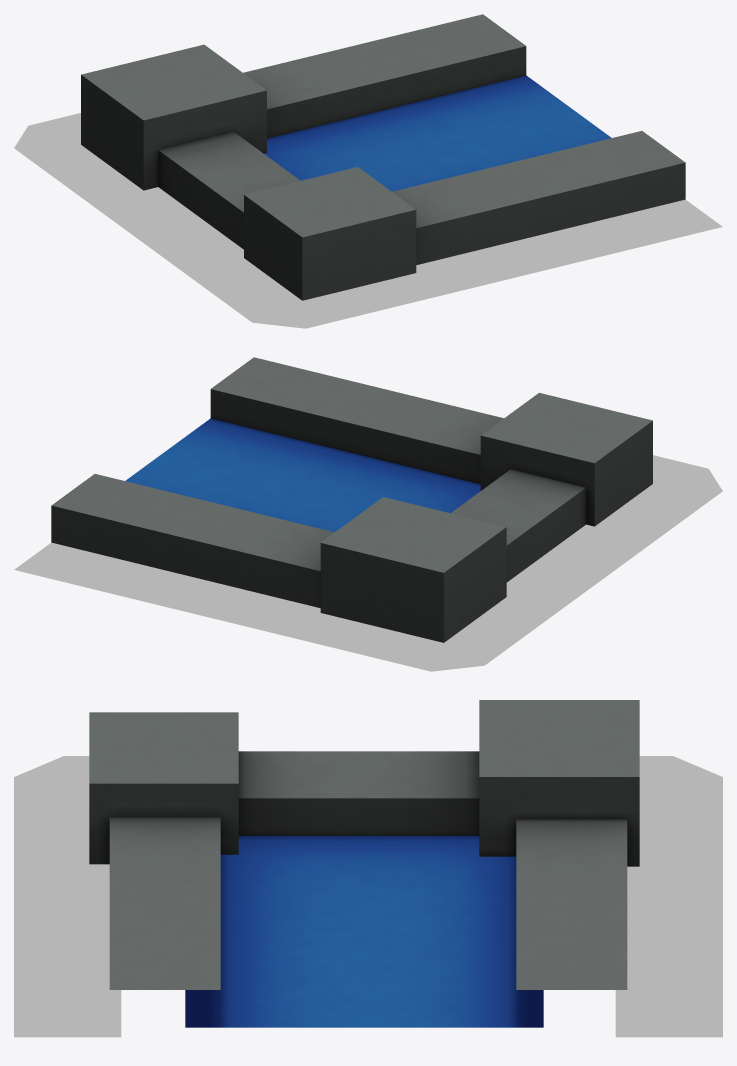
The model's file is asia_river_end.FBX.
3 views of the same model, one above another, from view 1: azimuth 30°, elevation 25°; view 2: azimuth 150°, elevation 25°; view 3: azimuth 270°, elevation 25° (orthographic). The views are drawn at different scales.
Parts seen in each view (by area): view 1: asia_river_end, asia_river_end_soft_shadow; view 2: asia_river_end, asia_river_end_soft_shadow; view 3: asia_river_end, asia_river_end_soft_shadow.
Part boxes in pixels (bbox=[...]): asia_river_end: bbox=[81, 14, 685, 300]; asia_river_end_soft_shadow: bbox=[14, 113, 722, 328]; asia_river_end: bbox=[51, 357, 652, 642]; asia_river_end_soft_shadow: bbox=[14, 455, 722, 671]; asia_river_end: bbox=[89, 700, 639, 1027]; asia_river_end_soft_shadow: bbox=[14, 756, 722, 1037].
Size of the model in its own units: 1115 by 193 by 1187.
